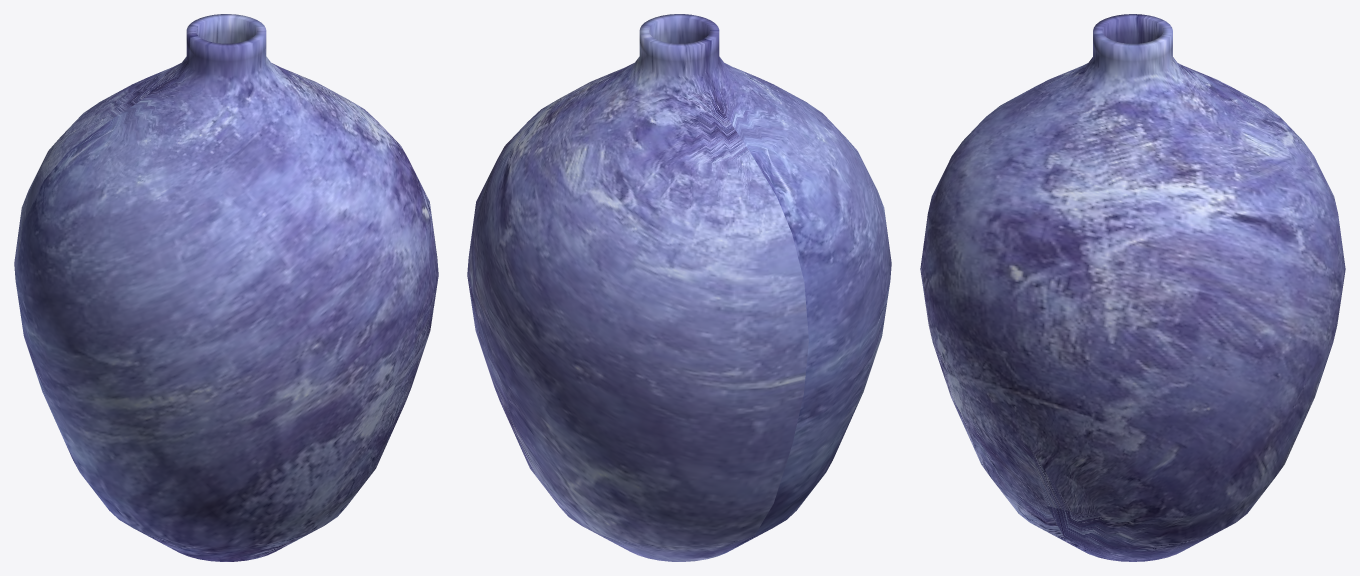
File: vase3.fbx
3 views of the same model, side by side, from view 1: azimuth 30°, elevation 25°; view 2: azimuth 150°, elevation 25°; view 3: azimuth 270°, elevation 25° (orthographic).
Visible parts, largest first — view 1: Cylinder; view 2: Cylinder; view 3: Cylinder.
Part boxes in pixels (left/top/right/bottom): Cylinder: left=14, top=14, right=438, bottom=561; Cylinder: left=467, top=14, right=891, bottom=561; Cylinder: left=920, top=14, right=1345, bottom=561.
Bounding box in the file's own units: 275 × 360 × 275.
